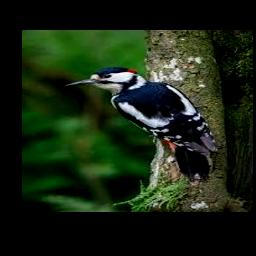Woodpecker: (65, 67, 218, 183)
